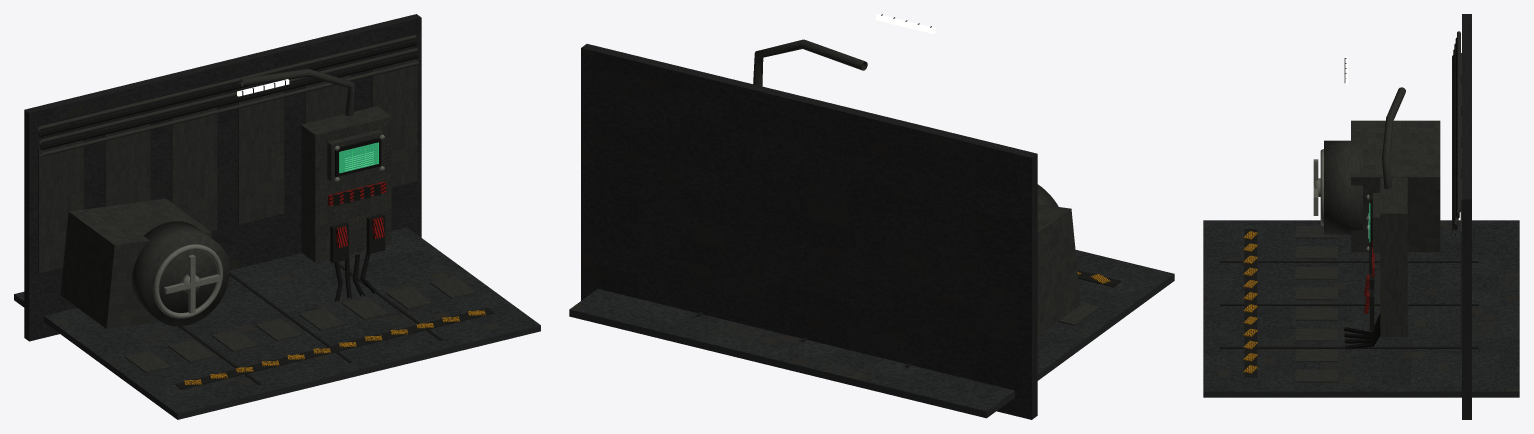
File: GLB_03_engine_room_power_terminal.glb
3 renders of one model, left to right at view 1: azimuth 30°, elevation 25°; view 2: azimuth 150°, elevation 25°; view 3: azimuth 270°, elevation 25°, orthographic. The views are drawn at different scales.
Parts seen in each view (by area): view 1: engine_room_oily_diamond_floor_base, engine_room_rear_blackened_wall, engine_room_background_turbine_housing_left, engine_power_terminal_main_cabinet, engine_room_round_hatch_socket, engine_room_rear_panel_3, engine_room_rear_panel_2, engine_room_rear_panel_0, engine_room_rear_panel_5, engine_room_rear_panel_1, engine_room_overhead_pipe_0, engine_room_overhead_pipe_4 (+20 smaller); view 2: engine_room_rear_blackened_wall, engine_room_oily_diamond_floor_base, engine_room_background_turbine_housing_left, engine_top_bent_pipe; view 3: engine_room_oily_diamond_floor_base, engine_room_background_turbine_housing_left, engine_power_terminal_main_cabinet, engine_room_rear_blackened_wall, engine_room_round_hatch_socket, engine_room_black_recessed_hazard_strip, engine_top_bent_pipe, engine_room_overhead_pipe_0, engine_room_floor_trench_1.2, engine_room_raised_floor_panel_3, engine_room_raised_floor_panel_7, engine_room_raised_floor_panel_5 (+13 smaller).
Boxes of the visible parts, x1,y1,x2,y2 form: engine_room_oily_diamond_floor_base: (14, 227, 540, 419); engine_room_rear_blackened_wall: (24, 14, 421, 341); engine_room_background_turbine_housing_left: (60, 198, 212, 328); engine_power_terminal_main_cabinet: (301, 106, 391, 262); engine_room_round_hatch_socket: (131, 221, 229, 326); engine_room_rear_panel_3: (238, 91, 284, 224); engine_room_rear_panel_2: (171, 107, 217, 231); engine_room_rear_panel_0: (38, 140, 83, 273); engine_room_rear_panel_5: (371, 58, 417, 187); engine_room_rear_panel_1: (105, 123, 150, 206); engine_room_overhead_pipe_0: (38, 35, 416, 130); engine_room_overhead_pipe_4: (40, 61, 418, 156); engine_room_rear_blackened_wall: (581, 44, 1037, 419); engine_room_oily_diamond_floor_base: (569, 250, 1174, 418); engine_room_background_turbine_housing_left: (1037, 204, 1080, 335); engine_top_bent_pipe: (753, 39, 867, 86); engine_room_oily_diamond_floor_base: (1203, 220, 1519, 397); engine_room_background_turbine_housing_left: (1351, 120, 1440, 252); engine_power_terminal_main_cabinet: (1380, 177, 1407, 337); engine_room_rear_blackened_wall: (1462, 14, 1471, 419); engine_room_round_hatch_socket: (1324, 140, 1362, 234); engine_room_black_recessed_hazard_strip: (1244, 229, 1257, 377); engine_top_bent_pipe: (1382, 87, 1405, 189); engine_room_overhead_pipe_0: (1457, 31, 1460, 212); engine_room_floor_trench_1.2: (1219, 346, 1478, 348); engine_room_raised_floor_panel_3: (1295, 287, 1337, 300); engine_room_raised_floor_panel_7: (1295, 369, 1337, 382); engine_room_raised_floor_panel_5: (1295, 328, 1337, 341).
Bounding box in the file's own units: 5.4 × 3.38 × 3.9.
Materials: 11 (8 with a texture image).
